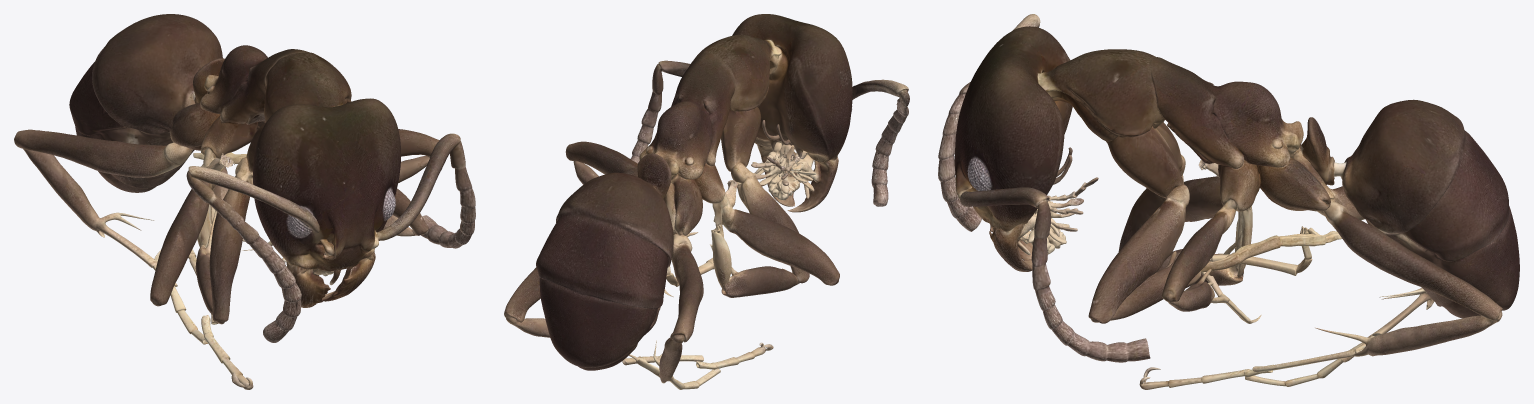
Rendered from esp7.glb.
The picture shows the model from 3 angles, left to right: view 1: azimuth 30°, elevation 25°; view 2: azimuth 150°, elevation 25°; view 3: azimuth 270°, elevation 25°; orthographic projection. The views are drawn at different scales.
Bounding box in the file's own units: 1.33 × 1.31 × 1.9.
Materials: 1 (1 with a texture image).
